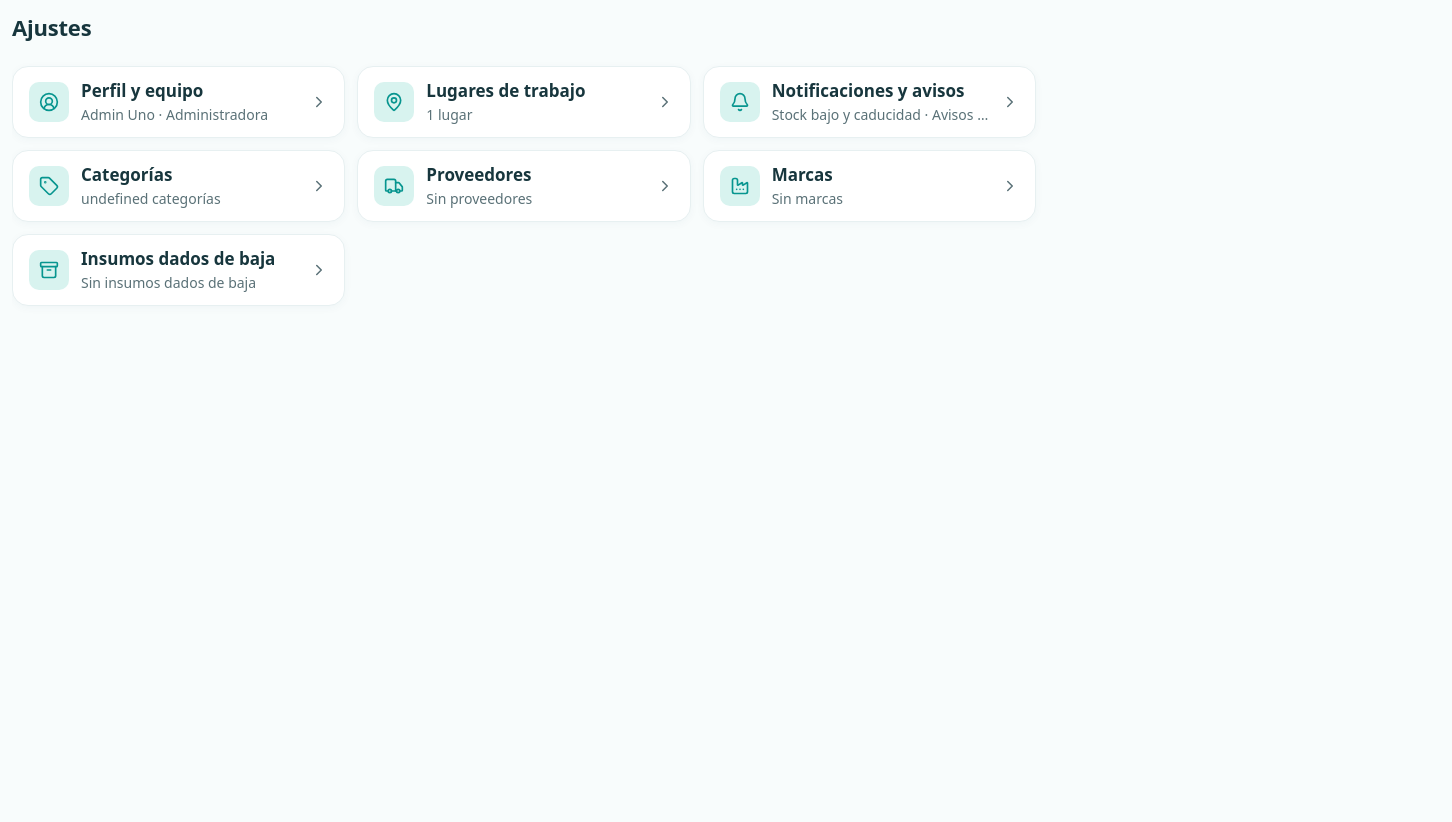
Test case: Permisos por rol (spec 019 US2) › la administración ve en "Notificaciones y avisos" interruptores, niveles, horas y mínimos
The width and height of the screenshot is (1452, 822).
Click the button "Notificaciones y avisos".
click(869, 102)  # box [703,66,1036,138]
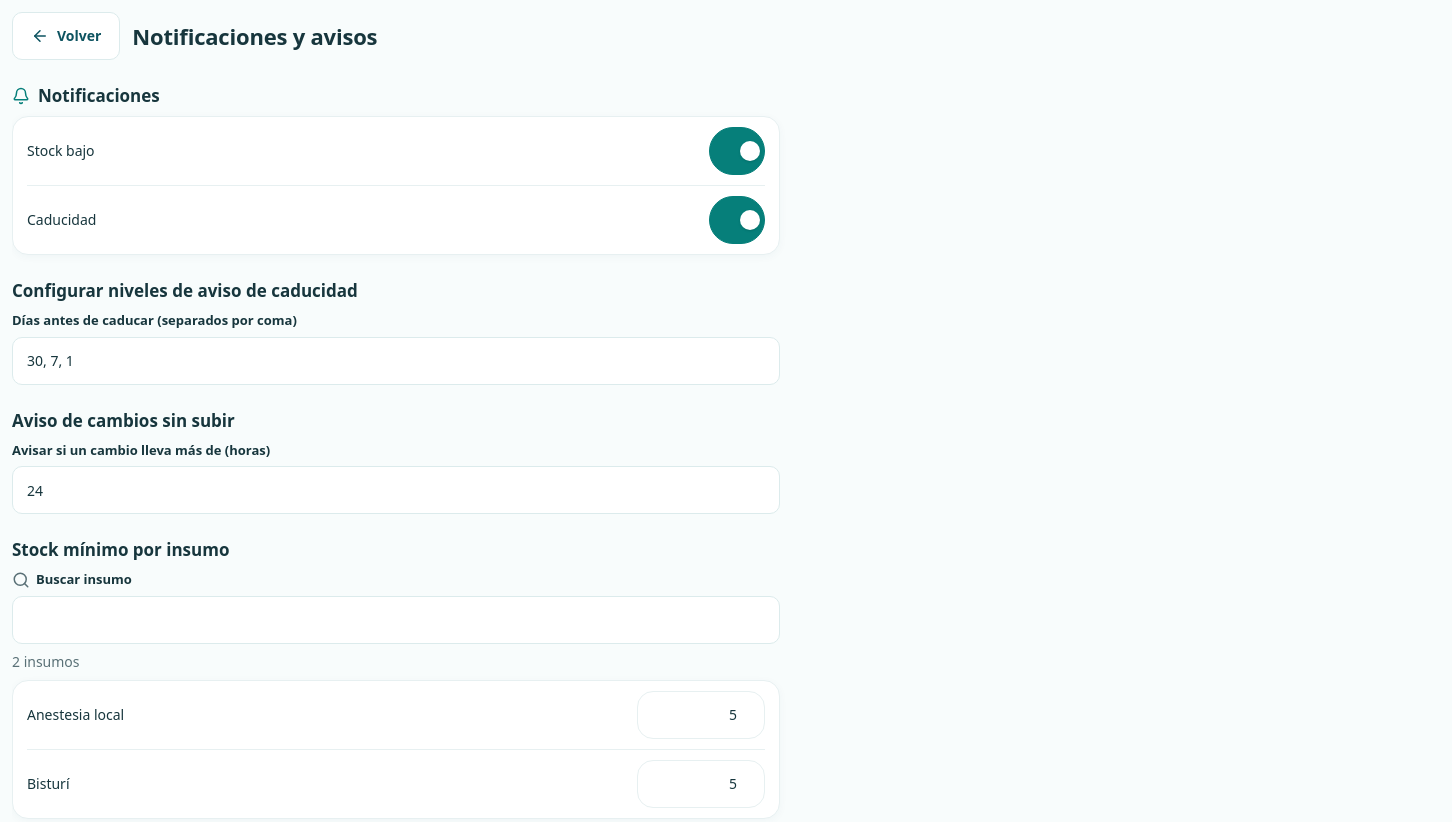
Expected: the number of switches is 2, [709,127,765,175]; [709,196,765,244]
Expected: the heading "Configurar niveles de aviso de caducidad" is shown, [12,279,358,302]
Expected: the heading "Aviso de cambios sin subir" is shown, [12,408,235,432]
